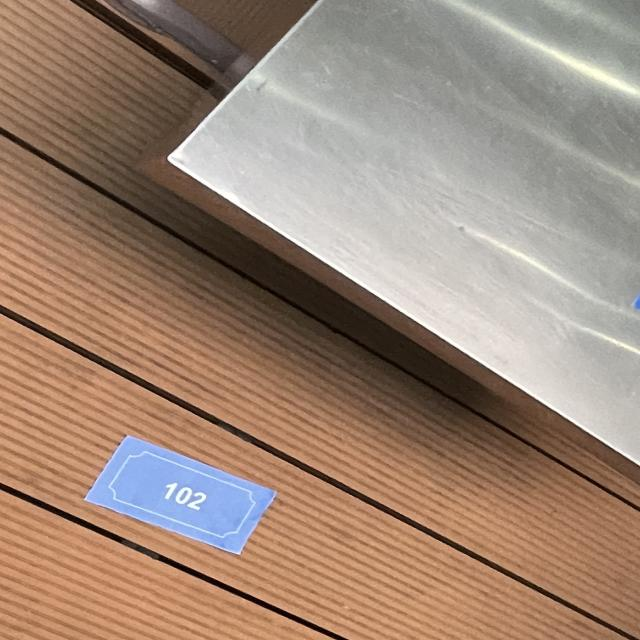Card: (62, 411, 288, 588)
